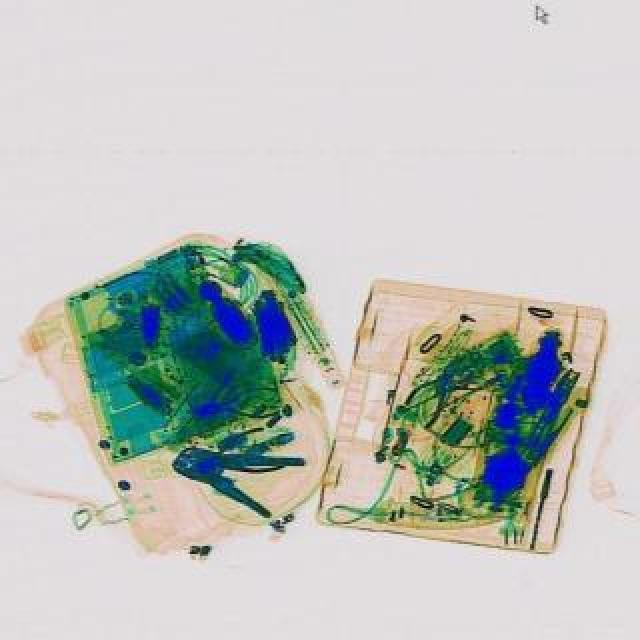wrench: (162, 424, 306, 524), (394, 344, 480, 430), (186, 422, 284, 490), (178, 384, 282, 428)
